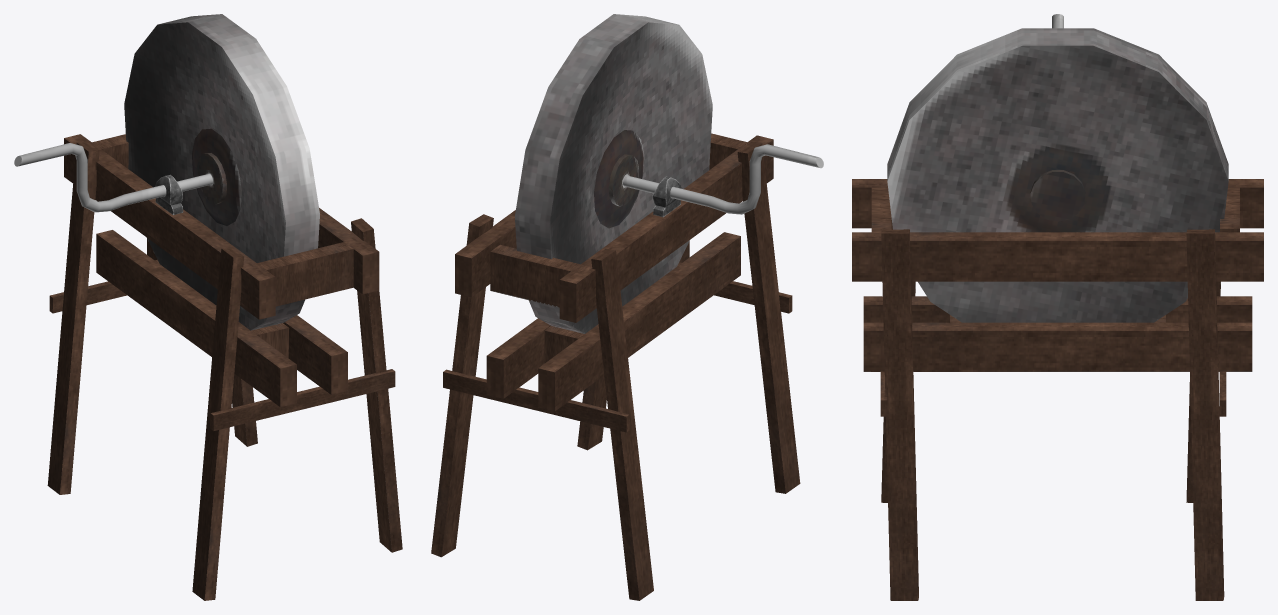
File: Grindstone.fbx
3 views of the same model, side by side, from view 1: azimuth 30°, elevation 25°; view 2: azimuth 150°, elevation 25°; view 3: azimuth 270°, elevation 25° (orthographic). The views are drawn at different scales.
Parts seen in each view (by area): view 1: Grindstone; view 2: Grindstone; view 3: Grindstone.
Boxes of the visible parts, box(x1,y1,x2,y2) form: Grindstone: box(14, 14, 402, 600); Grindstone: box(431, 14, 823, 600); Grindstone: box(852, 14, 1263, 600).
Bounding box in the file's own units: 131 × 198 × 144.
Materials: 1 (1 with a texture image).
